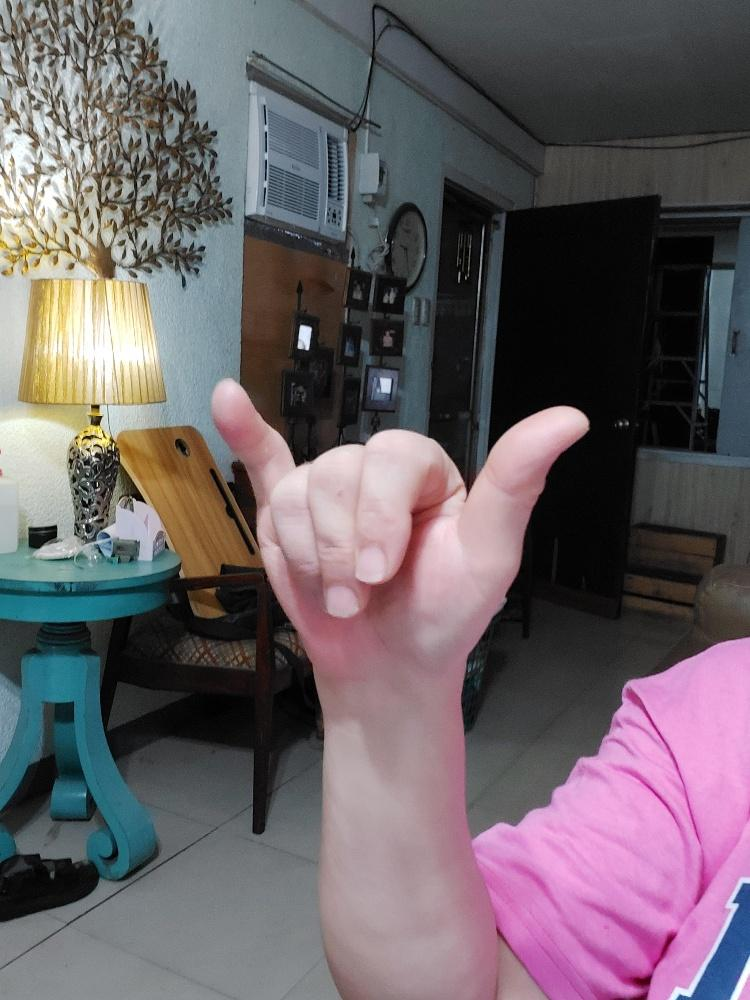y: (210, 376, 588, 679)
